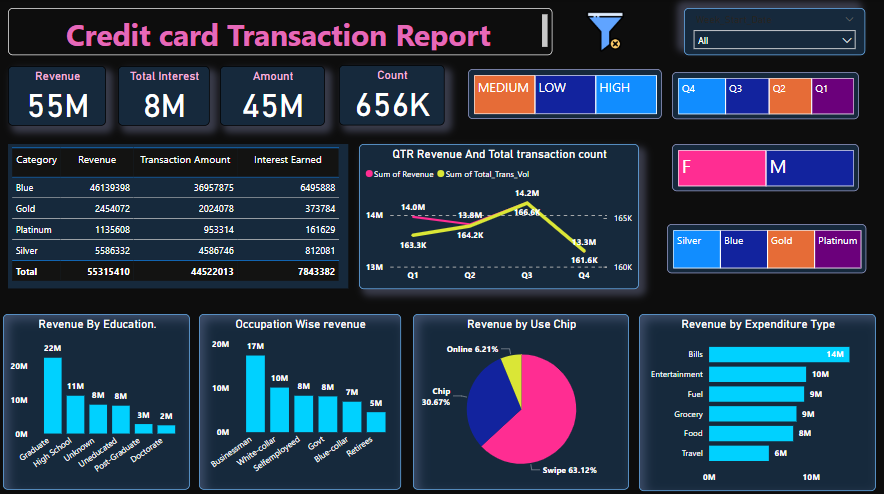

What the dashboard file says about the page in this screenshot:
{"tool":"powerbi","page":{"name":"credit report","canvas":[1280,720],"ordinal":1},"visuals":[{"type":"textbox","box":[15.8,0,675.4,82.1],"z":0},{"type":"lineStackedColumnComboChart","title":"QTR Revenue And Total transaction count","fields":{"Category":["credit_detail.Qtr"],"Y":["Sum(credit_detail.Revenue)"],"Y2":["Sum(credit_detail.Total_Trans_Vol)"]},"box":[568.8,182.9,370.1,256.3],"z":1000},{"type":"barChart","fields":{"Category":["credit_detail.Exp Type"],"Y":["Sum(credit_detail.Revenue)"]},"box":[937.4,436.3,342.7,270.7],"z":2000},{"type":"barChart","fields":{"Y":["Sum(credit_detail.Revenue)"],"Category":["customer_detail.Education_Level"]},"box":[0,436.3,288,270.7],"z":3000},{"type":"barChart","fields":{"Y":["Sum(credit_detail.Revenue)"],"Category":["customer_detail.Customer_Job"]},"box":[296.6,436.3,305.3,270.7],"z":4000},{"type":"barChart","fields":{"Y":["Sum(credit_detail.Revenue)"],"Category":["credit_detail.Use Chip"]},"box":[601.9,436.3,337,270.7],"z":5000},{"type":"tableEx","fields":{"Values":["credit_detail.Card_Category","Sum(credit_detail.Revenue)","Sum(credit_detail.Total_Trans_Amt)","Sum(credit_detail.Interest_Earned)"]},"box":[15.8,208.8,524.2,181.4],"z":6000},{"type":"card","title":"REVENUE","fields":{"Values":["Sum(credit_detail.Revenue)"]},"box":[44.6,96.5,151.2,86.4],"z":7000},{"type":"card","title":"Total Interest","fields":{"Values":["Sum(credit_detail.Interest_Earned)"]},"box":[211.7,96.5,151.2,86.4],"z":8000},{"type":"card","title":"Amount","fields":{"Values":["Sum(credit_detail.Total_Trans_Amt)"]},"box":[373,96.5,151.2,86.4],"z":9000},{"type":"card","title":"Count","fields":{"Values":["Sum(credit_detail.Total_Trans_Vol)"]},"box":[540,96.5,151.2,86.4],"z":10000},{"type":"treemap","fields":{"Group":["credit_detail.Qtr"],"Values":["Avg(credit_detail.Client_Num)"]},"box":[704.2,14.4,280.8,67.7],"z":11000},{"type":"treemap","fields":{"Group":["customer_detail.Gender"],"Values":["Avg(credit_detail.Client_Num)"]},"box":[999.4,115.2,280.8,67.7],"z":12000},{"type":"treemap","fields":{"Group":["credit_detail.Card_Category"],"Values":["Avg(credit_detail.Client_Num)"]},"box":[704.2,103.7,288,70.6],"z":13000},{"type":"treemap","fields":{"Values":["Avg(credit_detail.Client_Num)"],"Details":["customer_detail.IncomeGroup"]},"box":[973.4,229,270.7,70.6],"z":14000},{"type":"slicer","fields":{"Values":["credit_detail.Week_Start_Date"]},"box":[1017.9,14.4,262.1,67.7],"z":14001}]}

Visuals, with their boxes in screenshot pixels (x1, y1, x2, y2), scaled from the page's 1280x720 canvas onto the 884x494 screenshot:
textbox: pyautogui.locateOnScreen(11, 0, 477, 56)
"QTR Revenue And Total transaction count" lineStackedColumnComboChart: pyautogui.locateOnScreen(393, 125, 648, 301)
barChart - credit_detail.Exp Type x Sum(credit_detail.Revenue): pyautogui.locateOnScreen(647, 299, 883, 485)
barChart - Sum(credit_detail.Revenue) x customer_detail.Education_Level: pyautogui.locateOnScreen(0, 299, 199, 485)
barChart - Sum(credit_detail.Revenue) x customer_detail.Customer_Job: pyautogui.locateOnScreen(205, 299, 416, 485)
barChart - Sum(credit_detail.Revenue) x credit_detail.Use Chip: pyautogui.locateOnScreen(416, 299, 648, 485)
tableEx - credit_detail.Card_Category x Sum(credit_detail.Revenue): pyautogui.locateOnScreen(11, 143, 373, 268)
"REVENUE" card: pyautogui.locateOnScreen(31, 66, 135, 125)
"Total Interest" card: pyautogui.locateOnScreen(146, 66, 251, 125)
"Amount" card: pyautogui.locateOnScreen(258, 66, 362, 125)
"Count" card: pyautogui.locateOnScreen(373, 66, 477, 125)
treemap - credit_detail.Qtr x Avg(credit_detail.Client_Num): pyautogui.locateOnScreen(486, 10, 680, 56)
treemap - customer_detail.Gender x Avg(credit_detail.Client_Num): pyautogui.locateOnScreen(690, 79, 883, 125)
treemap - credit_detail.Card_Category x Avg(credit_detail.Client_Num): pyautogui.locateOnScreen(486, 71, 685, 120)
treemap - Avg(credit_detail.Client_Num) x customer_detail.IncomeGroup: pyautogui.locateOnScreen(672, 157, 859, 206)
slicer - credit_detail.Week_Start_Date: pyautogui.locateOnScreen(703, 10, 883, 56)
